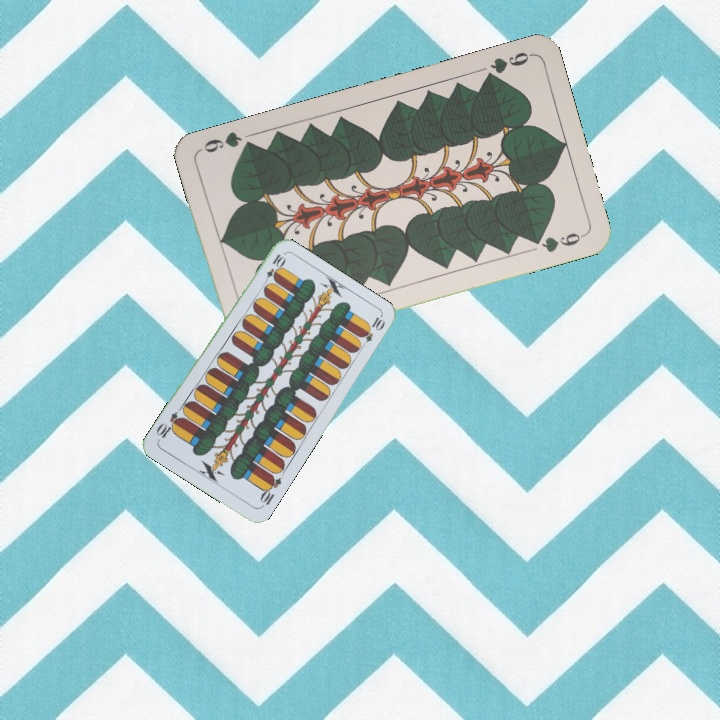E10: (256, 471, 284, 510), (259, 250, 287, 288)
G9: (479, 47, 534, 84)
